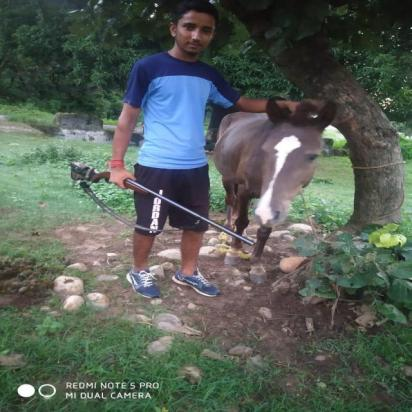Gun: (68, 160, 259, 248)
